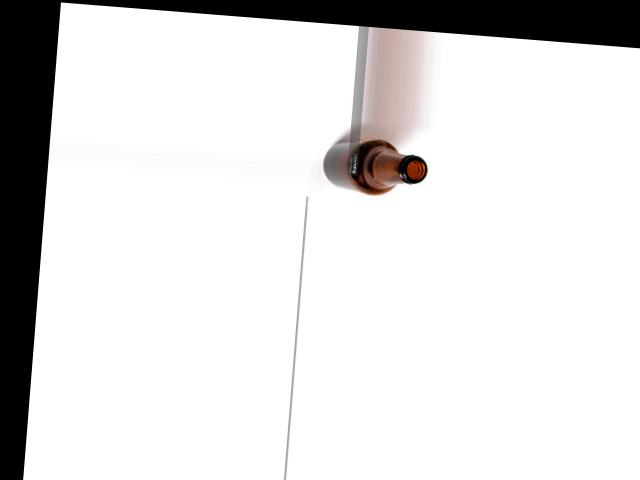beer: (321, 134, 429, 198)
